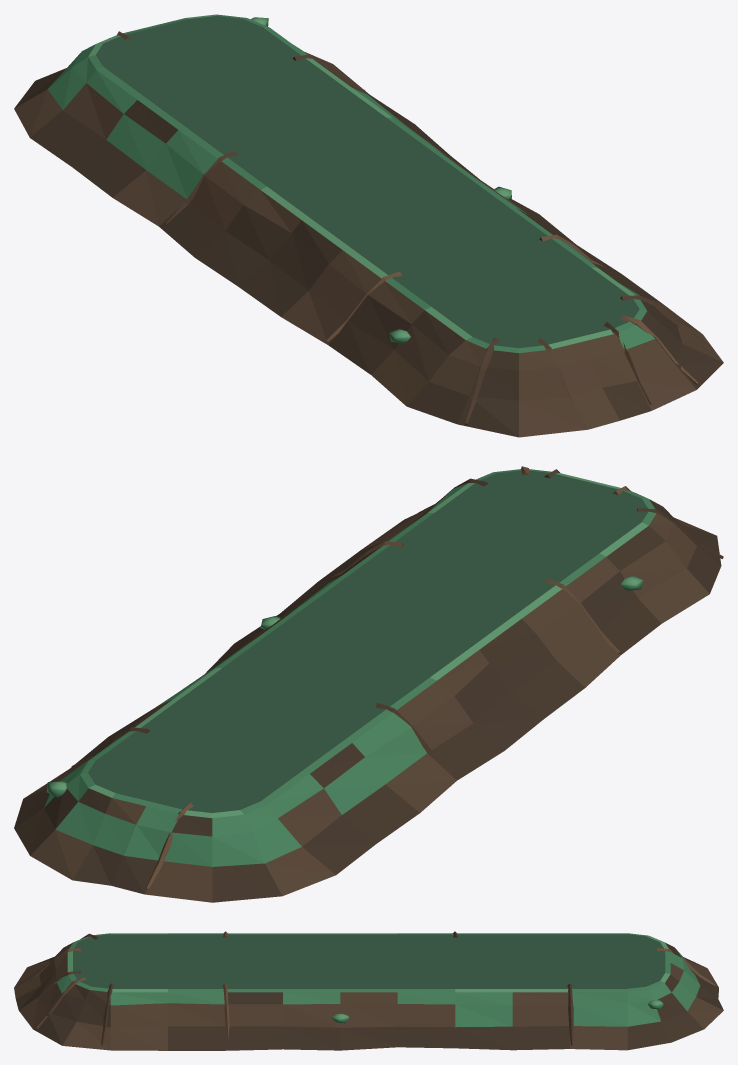
File: root-mound.glb
3 renders of one model, top to bottom at view 1: azimuth 30°, elevation 25°; view 2: azimuth 150°, elevation 25°; view 3: azimuth 270°, elevation 25°, orthographic. The views are drawn at different scales.
Parts seen in each view (by area): view 1: root-mound; view 2: root-mound; view 3: root-mound.
Part boxes in pixels (<box>): root-mound: <box>14,14,723,437</box>; root-mound: <box>14,466,723,902</box>; root-mound: <box>14,931,723,1050</box>.
Bounding box in the file's own units: 91.44 × 16.34 × 264.
